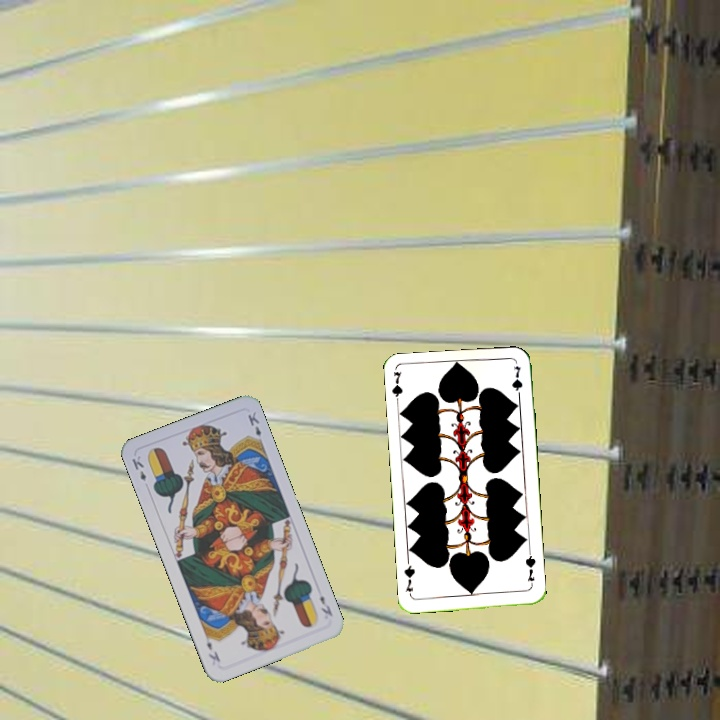EK: (128, 452, 149, 483), (316, 591, 335, 619)
G7: (521, 549, 538, 590), (388, 368, 405, 409)
